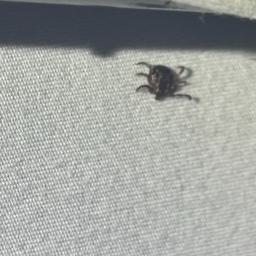Dermacentor variabilis: (134, 60, 193, 105)
